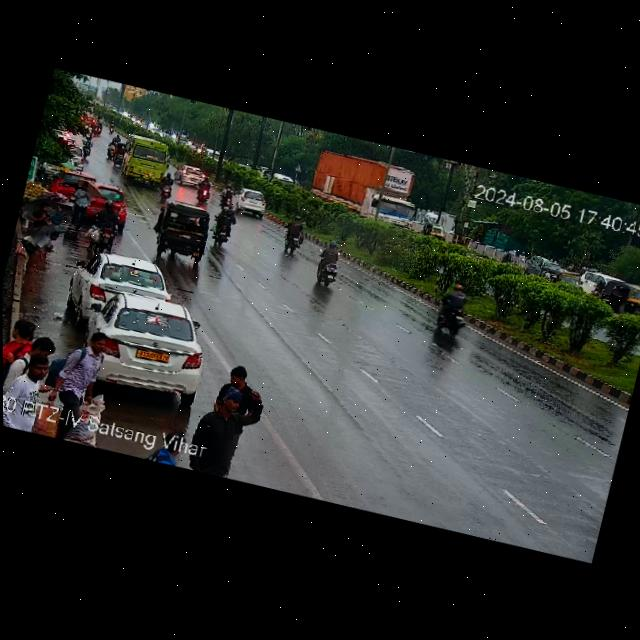bus: (112, 133, 179, 194)
car: (68, 284, 218, 408), (71, 244, 175, 328), (147, 196, 219, 268), (579, 269, 640, 317), (85, 181, 134, 229), (226, 184, 272, 219), (173, 163, 209, 190), (55, 169, 83, 203), (547, 264, 576, 289), (67, 144, 88, 168), (110, 140, 126, 166)
motorcycle: (425, 276, 482, 339), (307, 237, 348, 291), (85, 195, 127, 244), (209, 206, 242, 249), (280, 215, 311, 256), (156, 167, 179, 199), (195, 179, 214, 203), (104, 136, 119, 161), (220, 182, 235, 204), (81, 135, 93, 158), (90, 122, 106, 138), (107, 119, 118, 133), (114, 135, 122, 143)
person: (187, 379, 258, 467), (52, 323, 117, 416), (2, 315, 69, 393), (211, 355, 269, 416), (19, 222, 60, 268), (66, 179, 92, 229), (34, 202, 55, 224), (46, 173, 62, 194)
truck: (299, 140, 433, 233)
